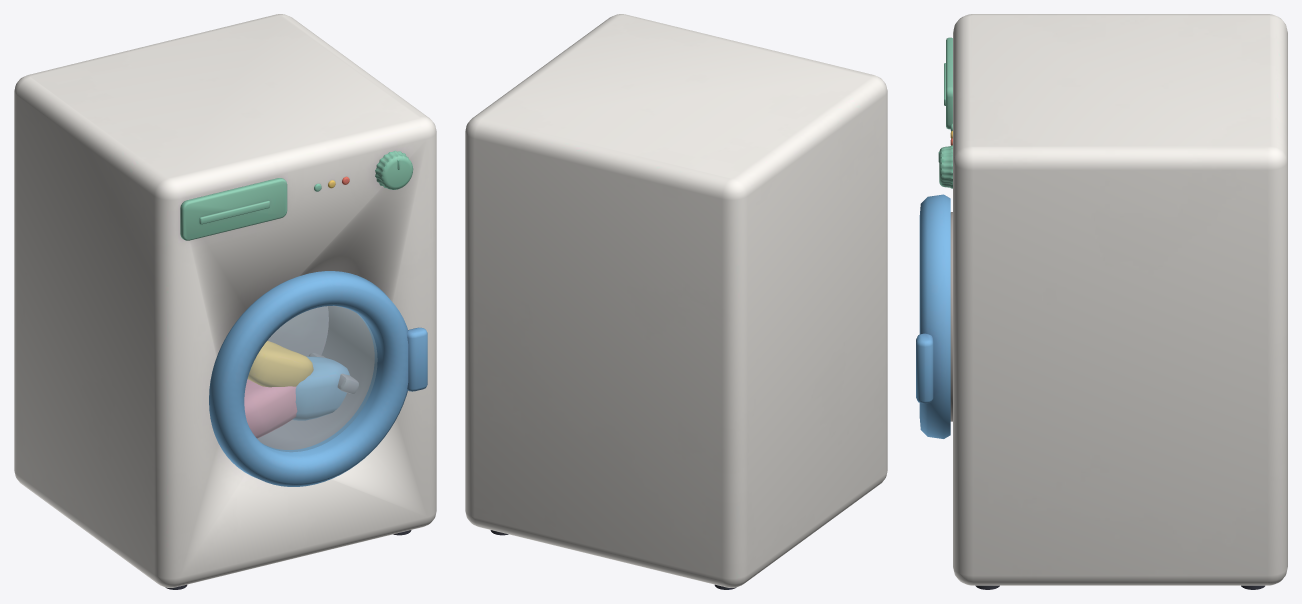
Rendered from washing-machine.glb.
3 renders of one model, left to right at view 1: azimuth 30°, elevation 25°; view 2: azimuth 150°, elevation 25°; view 3: azimuth 270°, elevation 25°, orthographic. The views are drawn at different scales.
Parts seen in each view (by area): view 1: washing-machine_body, washing-machine_door, washing-machine_door_glass; view 2: washing-machine_body; view 3: washing-machine_body, washing-machine_door.
Part boxes in pixels (bbox=[...]): washing-machine_body: bbox=[14, 14, 436, 589]; washing-machine_door: bbox=[209, 271, 427, 486]; washing-machine_door_glass: bbox=[244, 306, 377, 451]; washing-machine_body: bbox=[465, 14, 887, 589]; washing-machine_body: bbox=[938, 14, 1287, 589]; washing-machine_door: bbox=[916, 194, 950, 438].
Size of the model in its own units: 0.6 by 0.85 by 0.644.
Materials: 3 (2 with a texture image).
